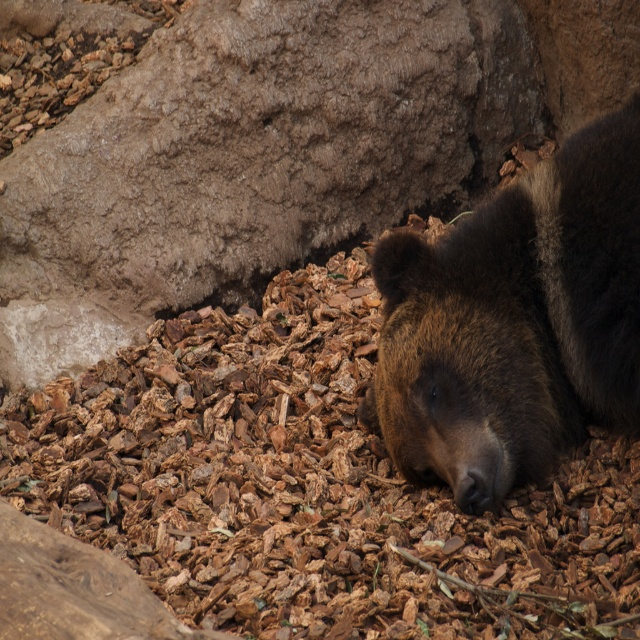Brown bear: (353, 87, 639, 513)
